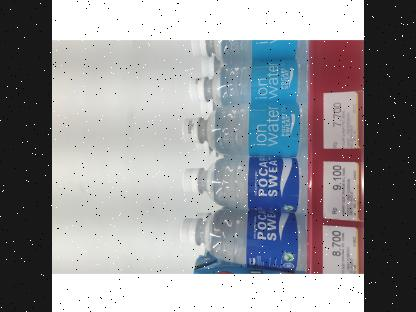Plastic Bottle: (170, 198, 344, 270), (175, 60, 341, 124), (170, 105, 344, 165), (175, 152, 331, 210)
